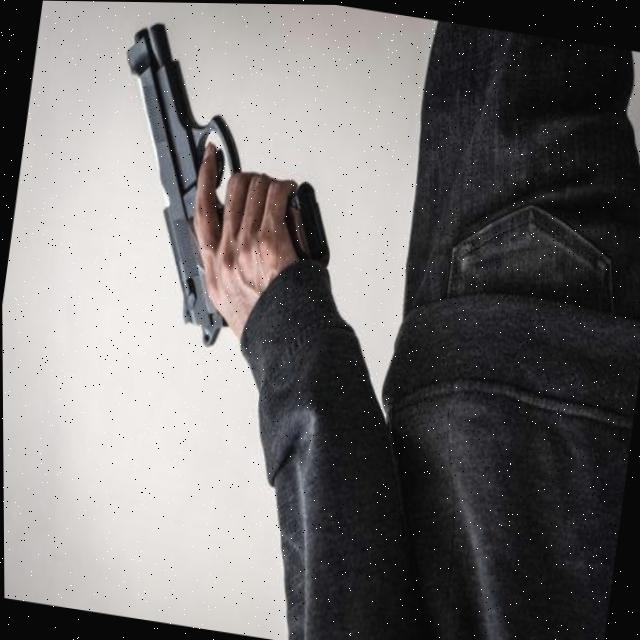gun: (126, 20, 241, 346), (285, 179, 329, 265)
